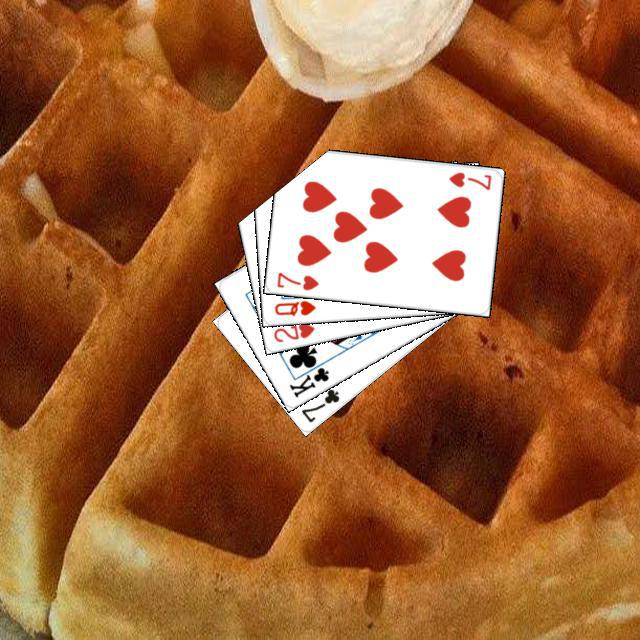2h: (268, 318, 316, 344)
7c: (296, 384, 341, 424)
7h: (444, 167, 493, 192), (272, 267, 320, 292)
Kc: (284, 355, 331, 399)
Qh: (269, 295, 317, 318)
